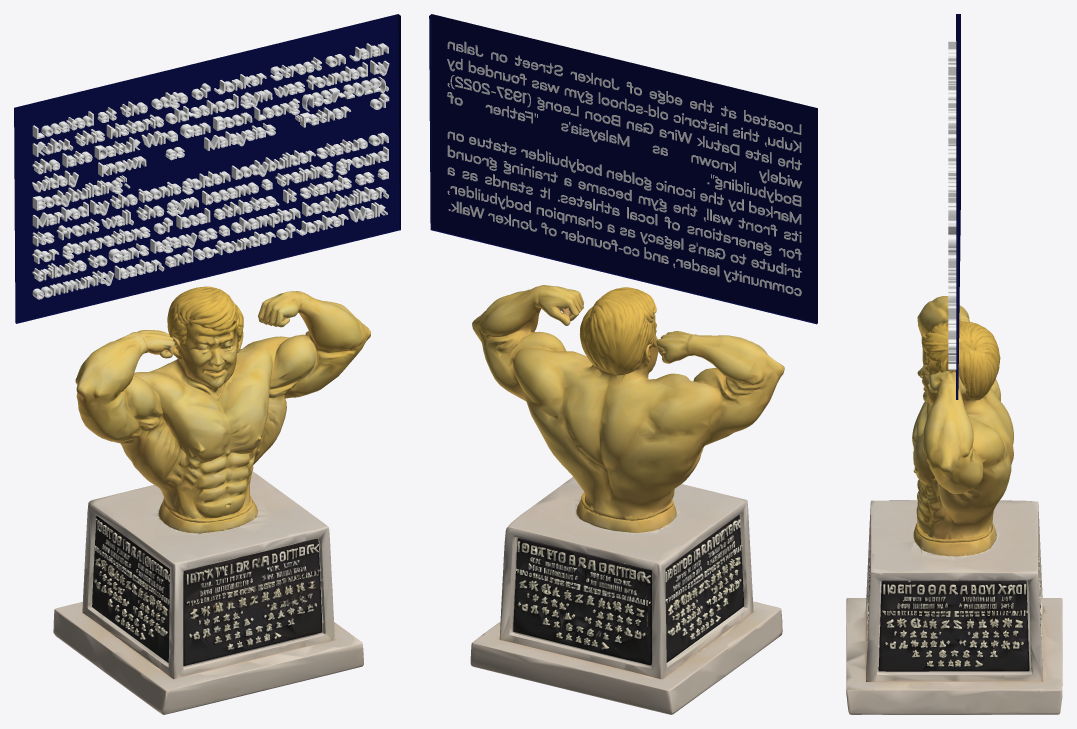
File: BOONLEONGGYM3D-v1.glb
3 views of the same model, side by side, from view 1: azimuth 30°, elevation 25°; view 2: azimuth 150°, elevation 25°; view 3: azimuth 270°, elevation 25° (orthographic). The views are drawn at different scales.
Visible parts, largest first — view 1: Mesh_0, Plane, BOOM; view 2: Mesh_0, Plane, BOOM; view 3: Mesh_0, BOOM, Plane.
Part boxes in pixels (x1=…): Mesh_0: x1=53, y1=286, x2=370, y2=714; Plane: x1=14, y1=14, x2=400, y2=323; BOOM: x1=32, y1=43, x2=389, y2=299; Mesh_0: x1=470, y1=285, x2=784, y2=714; Plane: x1=429, y1=14, x2=817, y2=324; BOOM: x1=447, y1=41, x2=801, y2=296; Mesh_0: x1=846, y1=296, x2=1062, y2=714; BOOM: x1=948, y1=41, x2=956, y2=370; Plane: x1=956, y1=14, x2=960, y2=399.
Bounding box in the file's own units: 1.46 × 2.14 × 0.7425.
3 materials, 1 textured.
